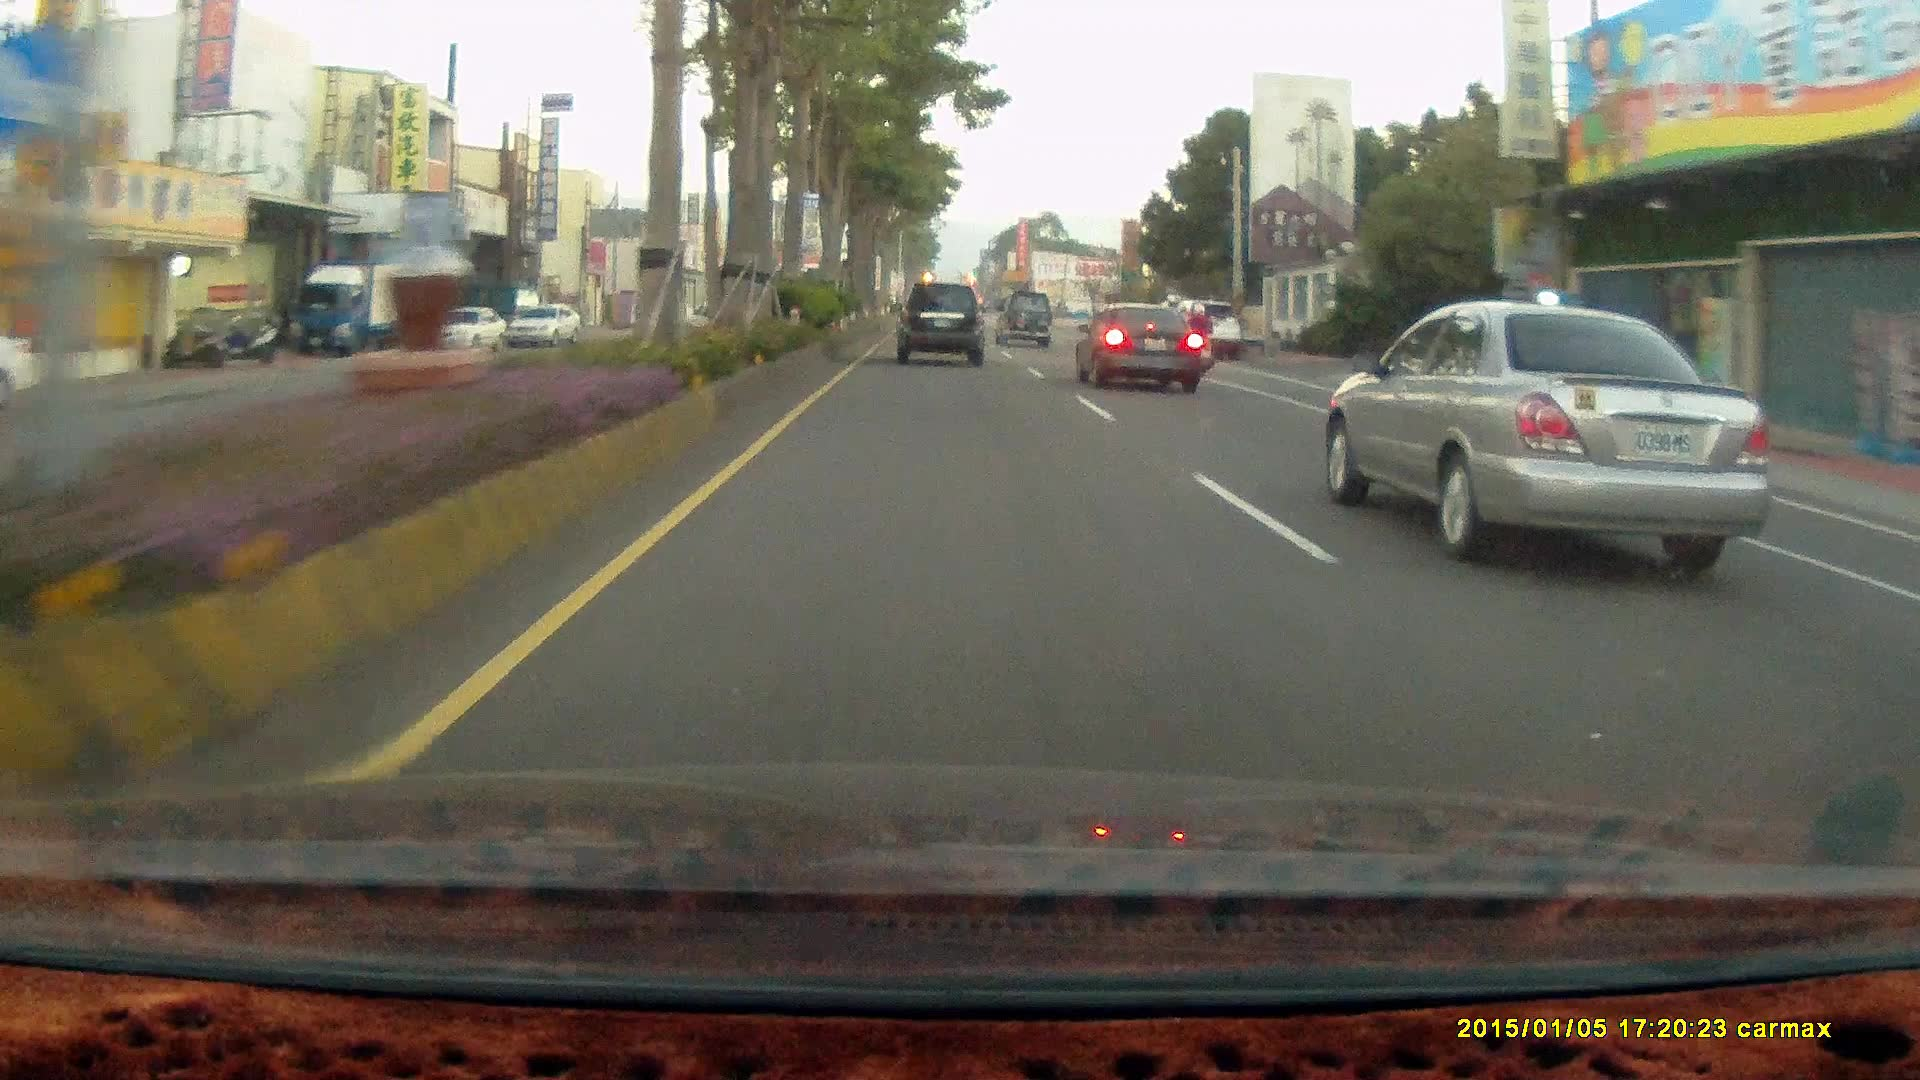rider: (1175, 302, 1218, 378)
vehicle: (1308, 298, 1764, 563), (1071, 301, 1202, 394), (287, 264, 419, 358), (287, 263, 417, 357), (1072, 305, 1203, 394), (893, 282, 988, 373), (894, 284, 981, 367), (422, 308, 514, 363), (1172, 297, 1245, 363), (1172, 297, 1245, 361), (421, 306, 511, 357), (994, 290, 1056, 351), (1, 320, 43, 408), (993, 290, 1054, 350), (505, 305, 582, 349)
